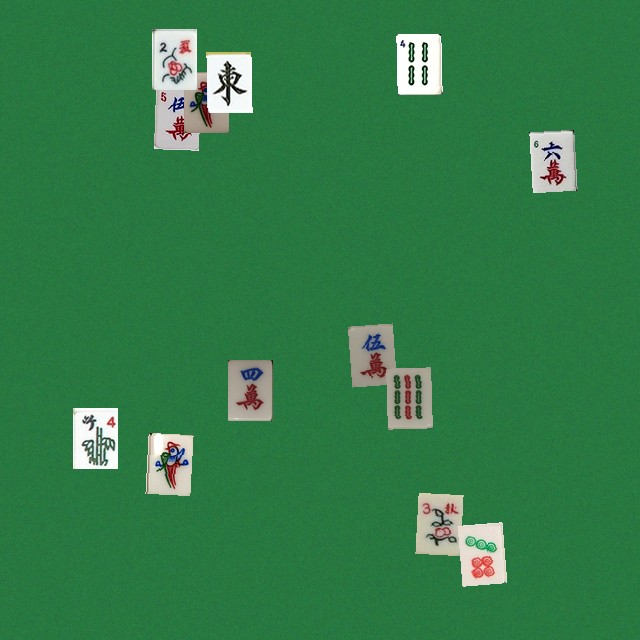tile: (347, 323, 392, 384), (415, 492, 460, 553), (457, 522, 502, 583), (529, 129, 574, 190), (145, 432, 190, 493), (396, 33, 441, 94), (153, 88, 198, 149), (227, 359, 272, 420), (183, 71, 228, 132), (151, 28, 196, 89), (206, 51, 251, 112), (386, 367, 431, 428), (72, 407, 117, 468)
